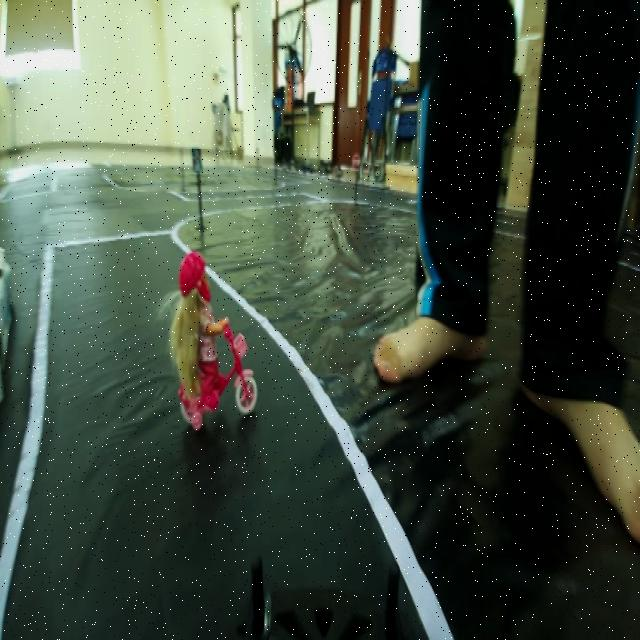pedestrian: (144, 239, 271, 439)
